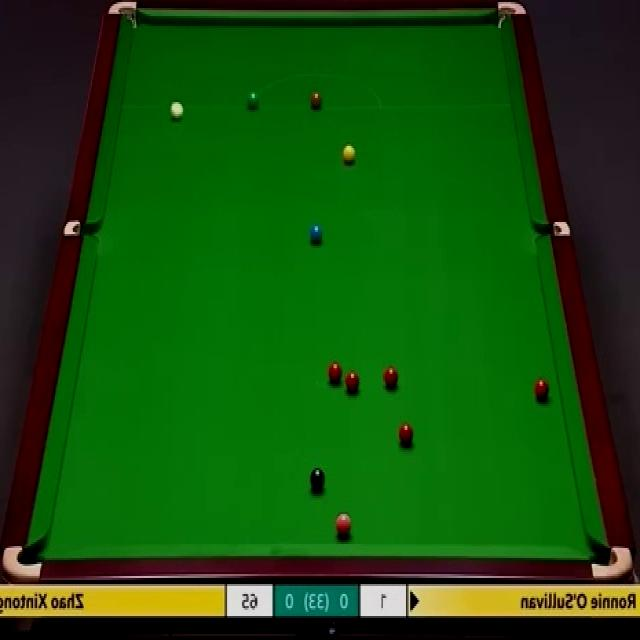black-ball: (310, 466, 325, 494)
blue-ball: (310, 222, 326, 248)
brown-ball: (310, 88, 322, 108)
green-ball: (249, 92, 260, 109)
pink-ball: (334, 512, 352, 538)
red-ball: (381, 366, 399, 392), (397, 422, 415, 448), (534, 378, 550, 402), (328, 362, 342, 386), (343, 370, 358, 392)
white-ball: (168, 100, 187, 121)
yellow-ball: (342, 144, 358, 167)
